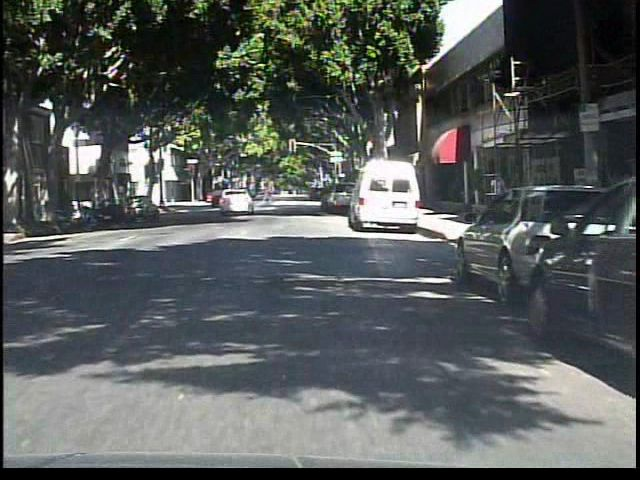person: (483, 165, 509, 225), (259, 179, 279, 213)
